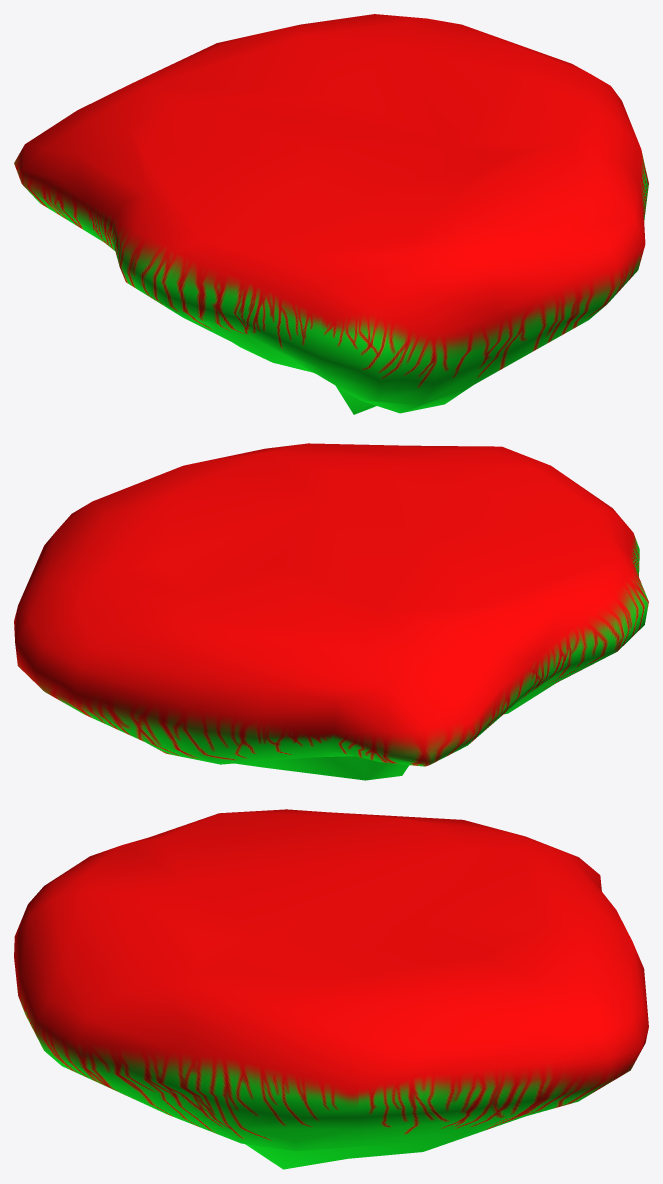
The model's file is FlyingRocks.fbx.
The picture shows the model from 3 angles, top to bottom: view 1: azimuth 30°, elevation 25°; view 2: azimuth 150°, elevation 25°; view 3: azimuth 270°, elevation 25°; orthographic projection. The views are drawn at different scales.
Parts seen in each view (by area): view 1: FlyingRock01; view 2: FlyingRock01; view 3: FlyingRock01.
Boxes of the visible parts, x1,y1,x2,y2 form: FlyingRock01: [14, 14, 648, 414]; FlyingRock01: [14, 443, 648, 780]; FlyingRock01: [14, 809, 648, 1169].
Size of the model in its own units: 562 by 263 by 572.
Materials: 1 (1 with a texture image).
